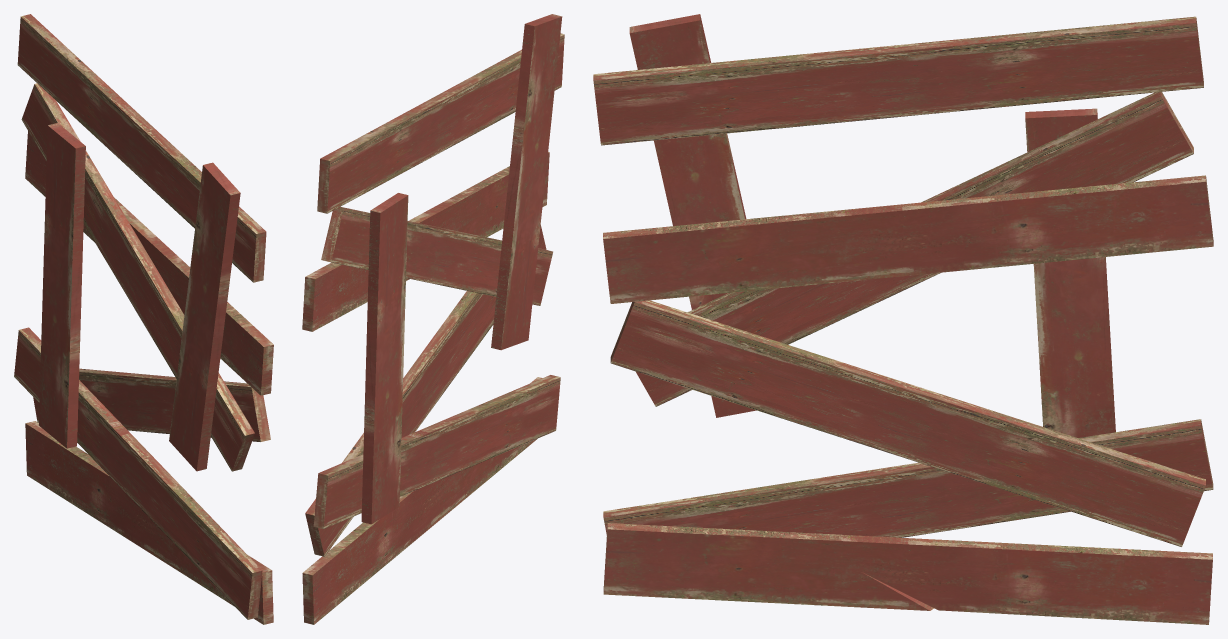
File: SM_WoodBars_Broken00.fbx
3 views of the same model, side by side, from view 1: azimuth 30°, elevation 25°; view 2: azimuth 150°, elevation 25°; view 3: azimuth 270°, elevation 25° (orthographic). The views are drawn at different scales.
Parts seen in each view (by area): view 1: SM_WoodBars00.002, SM_WoodBars00.014, SM_WoodBars00.001, SM_WoodBars00.008, SM_WoodBars00, SM_WoodBars00.018, SM_WoodBars00.009, SM_WoodBars00.010, SM_WoodBars00.004, SM_WoodBars00.003, SM_WoodBars00.006, SM_WoodBars00.015 (+6 smaller); view 2: SM_WoodBars00.002, SM_WoodBars00.001, SM_WoodBars00.018, SM_WoodBars00.009, SM_WoodBars00.014, SM_WoodBars00.008, SM_WoodBars00, SM_WoodBars00.003, SM_WoodBars00.004, SM_WoodBars00.015, SM_WoodBars00.012, SM_WoodBars00.007 (+6 smaller); view 3: SM_WoodBars00, SM_WoodBars00.007, SM_WoodBars00.017, SM_WoodBars00.011, SM_WoodBars00.012, SM_WoodBars00.018, SM_WoodBars00.006, SM_WoodBars00.001, SM_WoodBars00.010, SM_WoodBars00.014, SM_WoodBars00.002, SM_WoodBars00.009 (+6 smaller).
Part boxes in pixels (x1,y1,x2,y2): SM_WoodBars00.002: [181, 162, 240, 403]; SM_WoodBars00.014: [99, 421, 262, 619]; SM_WoodBars00.001: [17, 14, 154, 169]; SM_WoodBars00.008: [45, 123, 85, 348]; SM_WoodBars00: [114, 109, 266, 282]; SM_WoodBars00.018: [25, 421, 161, 541]; SM_WoodBars00.009: [39, 203, 80, 448]; SM_WoodBars00.010: [21, 83, 145, 288]; SM_WoodBars00.004: [99, 204, 184, 378]; SM_WoodBars00.003: [169, 300, 215, 471]; SM_WoodBars00.006: [150, 255, 273, 395]; SM_WoodBars00.015: [14, 327, 132, 485]; SM_WoodBars00.002: [503, 14, 562, 257]; SM_WoodBars00.001: [317, 103, 463, 213]; SM_WoodBars00.018: [302, 484, 447, 624]; SM_WoodBars00.009: [361, 287, 402, 524]; SM_WoodBars00.014: [408, 375, 560, 490]; SM_WoodBars00.008: [368, 193, 408, 430]; SM_WoodBars00: [422, 33, 564, 158]; SM_WoodBars00.003: [491, 163, 538, 350]; SM_WoodBars00.004: [409, 227, 501, 296]; SM_WoodBars00.015: [313, 435, 441, 528]; SM_WoodBars00.012: [401, 225, 546, 437]; SM_WoodBars00.007: [302, 202, 456, 331]; SM_WoodBars00: [593, 42, 957, 145]; SM_WoodBars00.007: [839, 175, 1213, 276]; SM_WoodBars00.017: [603, 523, 989, 610]; SM_WoodBars00.011: [843, 368, 1205, 546]; SM_WoodBars00.012: [610, 300, 1025, 473]; SM_WoodBars00.018: [860, 537, 1212, 624]; SM_WoodBars00.006: [603, 209, 967, 303]; SM_WoodBars00.001: [853, 16, 1203, 112]; SM_WoodBars00.010: [921, 92, 1193, 202]; SM_WoodBars00.014: [603, 468, 989, 537]; SM_WoodBars00.002: [629, 14, 746, 309]; SM_WoodBars00.009: [1038, 257, 1115, 437].
Bounding box in the file's own units: 34.26 × 461 × 435.
